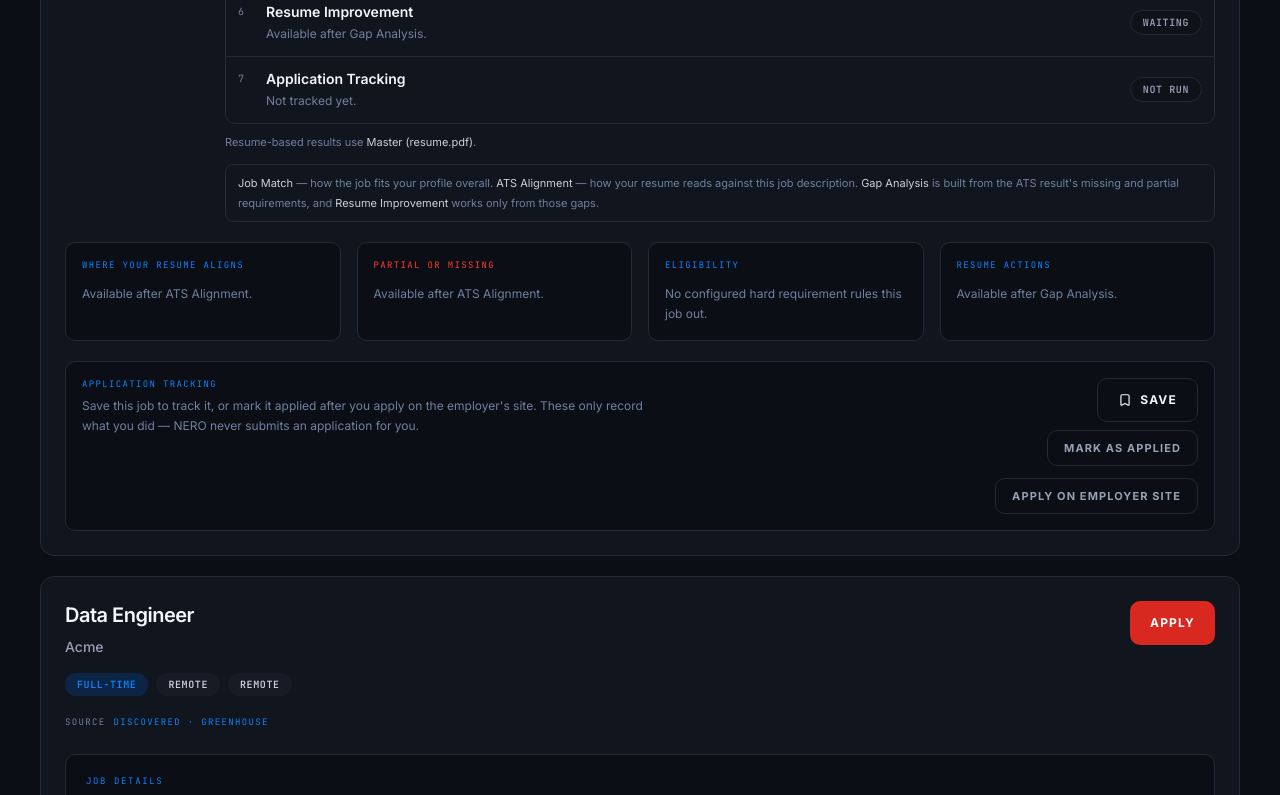
Test case: Jobs page — AJI-023 decision workflow › links a saved job into Application Tracking
(page scrolled)
Click the button with aria-label "Save job" at (1148, 400), box [1097,378,1198,422]
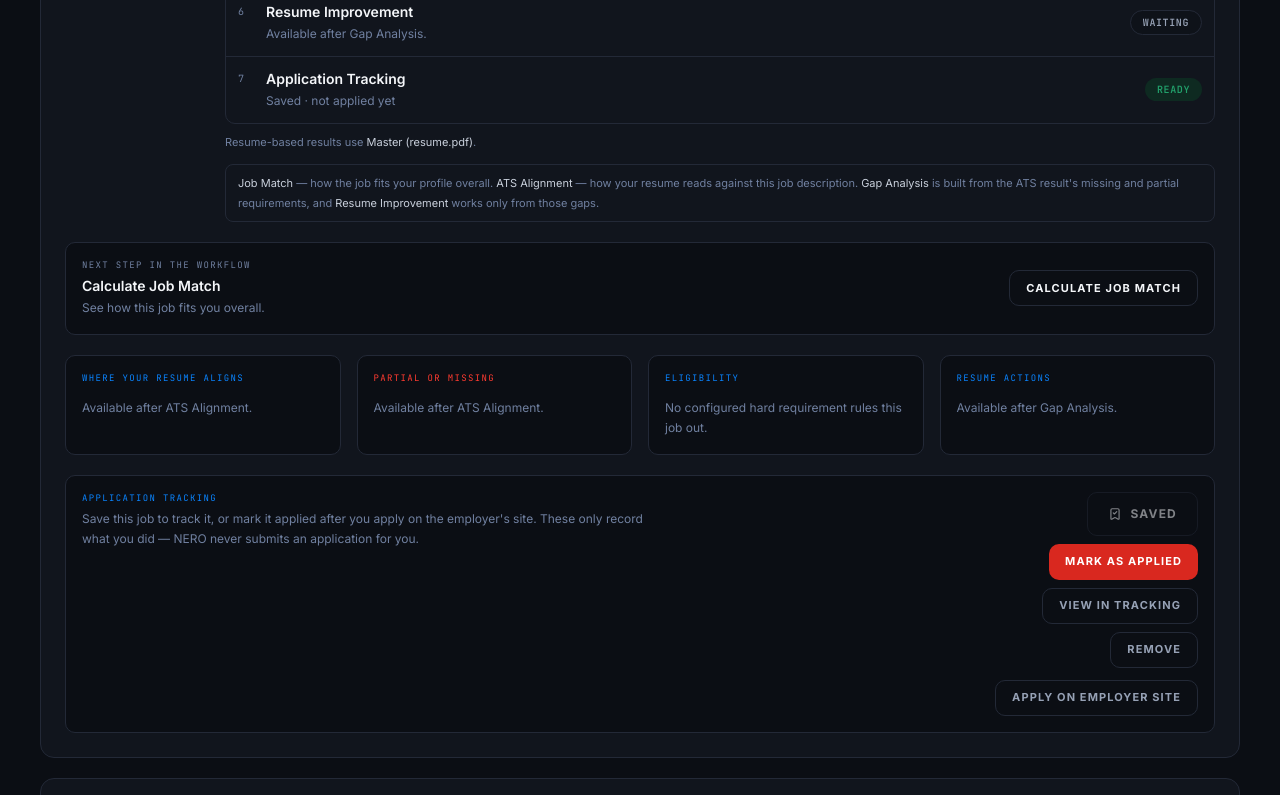
Check: the text "Saved · not applied yet" is shown, box [266,90,406,110]
